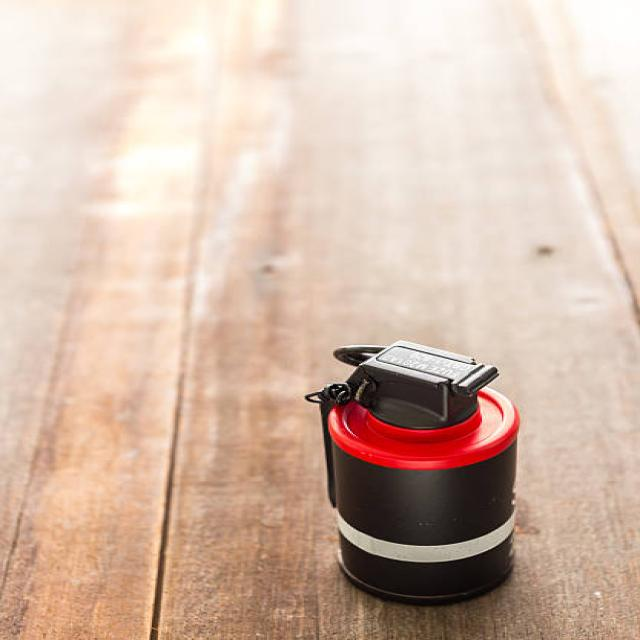grenade: (305, 339, 541, 614)
